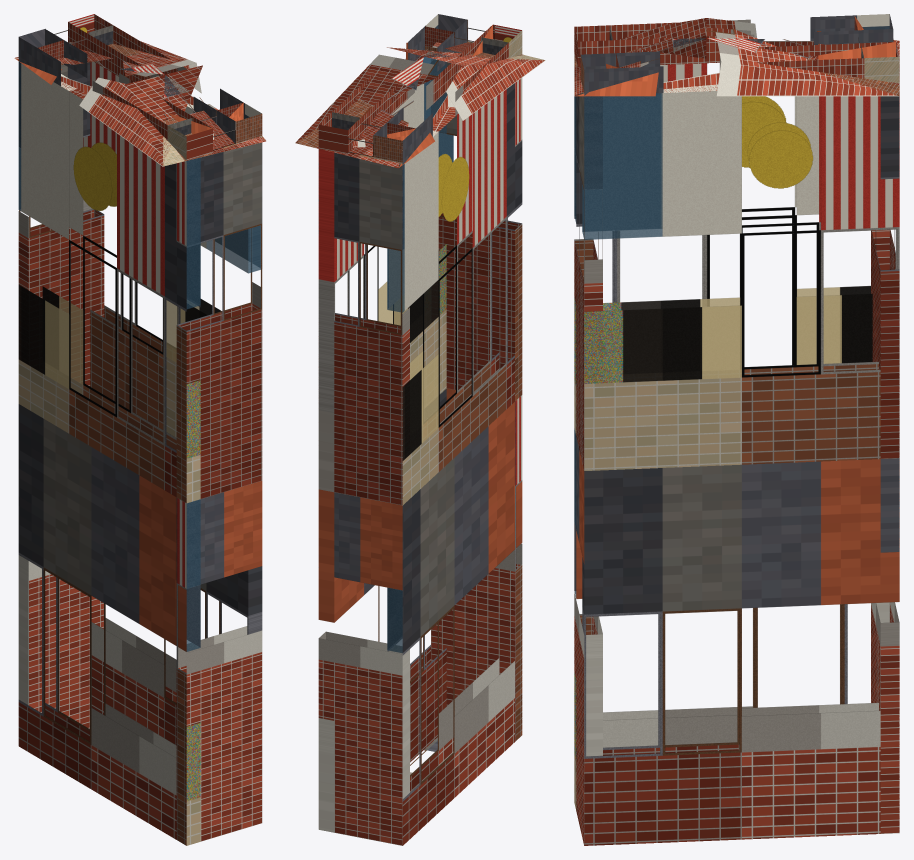
3 views of the same model, side by side, from view 1: azimuth 30°, elevation 25°; view 2: azimuth 150°, elevation 25°; view 3: azimuth 270°, elevation 25° (orthographic). The views are drawn at different scales.
Parts seen in each view (by area): view 1: 238568844__wall_2_xb, 238568844__wall_3_xb, 238568844__wall_0_xb, 238568844__wall_1_xb, 238568844__wall_2_xf, 238568844_roof_left_xb, 238568844__cornice_2, 238568844__cornice_0, 238568844__wall_0_xf, 238568844__cornice_3, 238568844_roof_front_xb, 238568844_roof_right_xb (+2 smaller); view 2: 238568844__wall_2_xb, 238568844__wall_1_xb, 238568844__wall_0_xb, 238568844__wall_3_xb, 238568844__wall_2_xf, 238568844_roof_left_xb, 238568844__cornice_0, 238568844__cornice_2, 238568844_roof_right_xb, 238568844__wall_0_xf, 238568844_roof_back_xb, 238568844__cornice_1 (+2 smaller); view 3: 238568844__wall_0_xb, 238568844__wall_0_xf, 238568844__wall_2_xb, 238568844__wall_1_xb, 238568844__wall_3_xb, 238568844_roof_right_xb, 238568844__cornice_0, 238568844__wall_2_xf, 238568844__cornice_2, 238568844_roof_left_xb, 238568844__cornice_1, 238568844_roof_back_xb (+1 smaller).
Part boxes in pixels (x1,y1,x2,y2): 238568844__wall_2_xb: (18,62,200,845); 238568844__wall_3_xb: (176,142,262,845); 238568844__wall_0_xb: (83,61,262,745); 238568844__wall_1_xb: (18,62,104,728); 238568844__wall_2_xf: (19,62,200,800); 238568844_roof_left_xb: (14,58,202,166); 238568844__cornice_2: (18,29,212,160); 238568844__cornice_0: (68,14,249,143); 238568844__wall_0_xf: (167,226,260,361); 238568844__cornice_3: (168,102,262,160); 238568844_roof_front_xb: (162,75,265,166); 238568844_roof_right_xb: (122,41,265,140); 238568844__wall_2_xb: (387,83,522,845); 238568844__wall_1_xb: (318,153,409,845); 238568844__wall_0_xb: (318,56,453,832); 238568844__wall_3_xb: (431,52,522,741); 238568844__wall_2_xf: (387,164,438,652); 238568844_roof_left_xb: (387,47,545,167); 238568844__cornice_0: (318,14,467,153); 238568844__cornice_2: (374,24,514,164); 238568844_roof_right_xb: (296,42,438,142); 238568844__wall_0_xf: (379,57,453,341); 238568844_roof_back_xb: (295,57,423,167); 238568844__cornice_1: (332,112,415,164); 238568844__wall_0_xb: (582,84,899,845); 238568844__wall_0_xf: (582,93,810,745); 238568844__wall_2_xb: (574,63,872,810); 238568844__wall_1_xb: (871,96,899,833); 238568844__wall_3_xb: (574,92,602,845); 238568844_roof_right_xb: (575,29,898,96); 238568844__cornice_0: (581,42,899,95); 238568844__wall_2_xf: (574,96,871,757); 238568844__cornice_2: (574,14,893,67); 238568844_roof_left_xb: (619,18,896,58); 238568844__cornice_1: (854,14,899,83); 238568844_roof_back_xb: (707,38,899,96).
Size of the model in its own units: 0.1112 by 0.7334 by 0.2751.
1 material, 1 textured.
